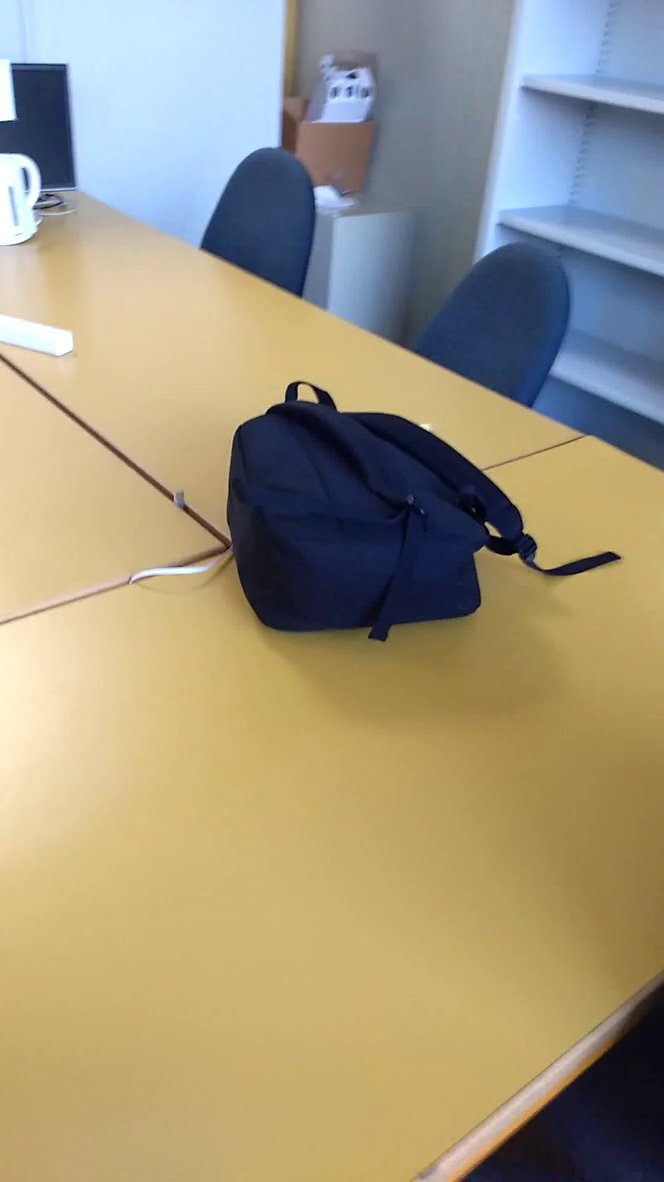bag: (200, 373, 639, 663)
chair: (387, 234, 588, 439), (186, 139, 330, 309)
